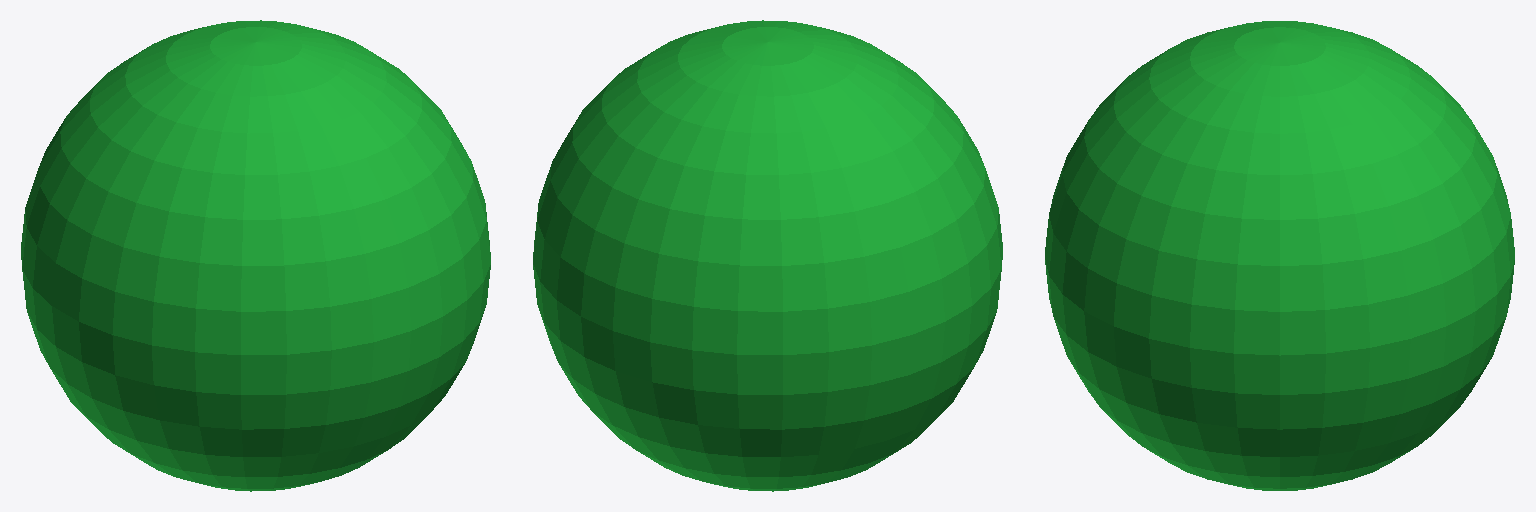
The robot description file, URDF, robot "green_sphere":
<?xml version="1.0"?>
<robot name="green_sphere">
  <link name="base_link">
    <contact>
      <lateral_friction value="0.9"/>
      <rolling_friction value="0.08"/>
      <spinning_friction value="0.06"/>
      <restitution value="0.0"/>
    </contact>
    <inertial>
      <origin rpy="0 0 0" xyz="0 0 0"/>
      <mass value="0.5"/>
      <inertia ixx="0.001" ixy="0" ixz="0" iyy="0.001" iyz="0" izz="0.001"/>
    </inertial>
    <visual>
      <origin rpy="0 0 0" xyz="0 0 0"/>
      <geometry>
        <sphere radius="0.06"/>
      </geometry>
      <material name="green">
        <color rgba="0.180 0.720 0.280 1.000"/>
      </material>
    </visual>
    <collision>
      <origin rpy="0 0 0" xyz="0 0 0"/>
      <geometry>
        <sphere radius="0.06"/>
      </geometry>
    </collision>
  </link>
</robot>

--- Render facts (derived) ---
Views: 3 orthographic renders of the robot side by side, from view 1: azimuth 30°, elevation 25°; view 2: azimuth 150°, elevation 25°; view 3: azimuth 270°, elevation 25°.
Robot: green_sphere — 1 links, 0 joints (none); root link base_link; default pose: every joint at zero.
Visible links, largest first — view 1: base_link; view 2: base_link; view 3: base_link.
Boxes of the visible links, x1=… form: base_link: x1=21, y1=20, x2=490, y2=491; base_link: x1=533, y1=20, x2=1002, y2=491; base_link: x1=1045, y1=21, x2=1514, y2=490.
Bounding box of the posed robot: 0.12 × 0.12 × 0.12 m (x, y, z).
Geometry: primitives only (box / cylinder / sphere), no mesh files.
